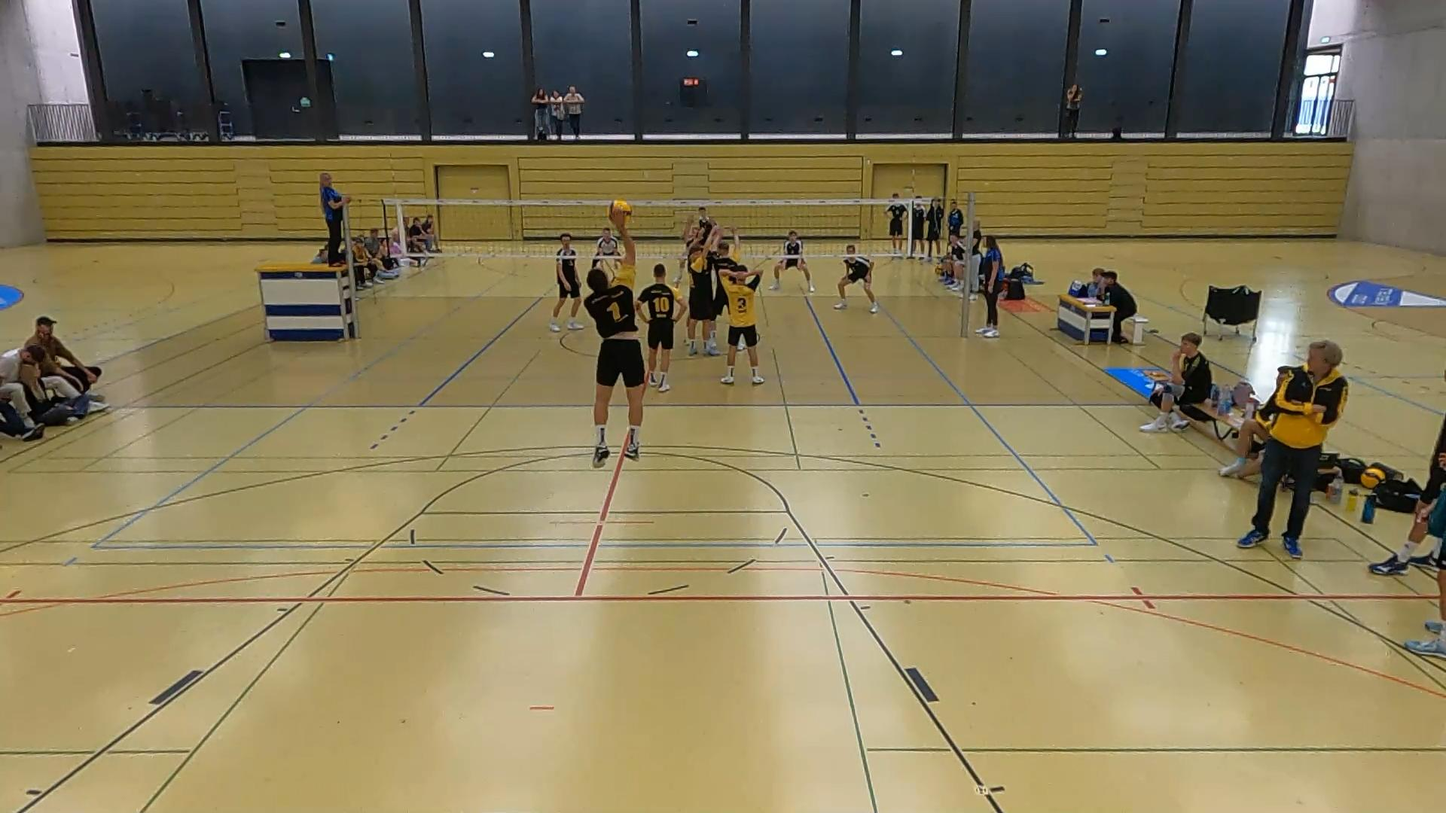battuta: (575, 202, 650, 468)
